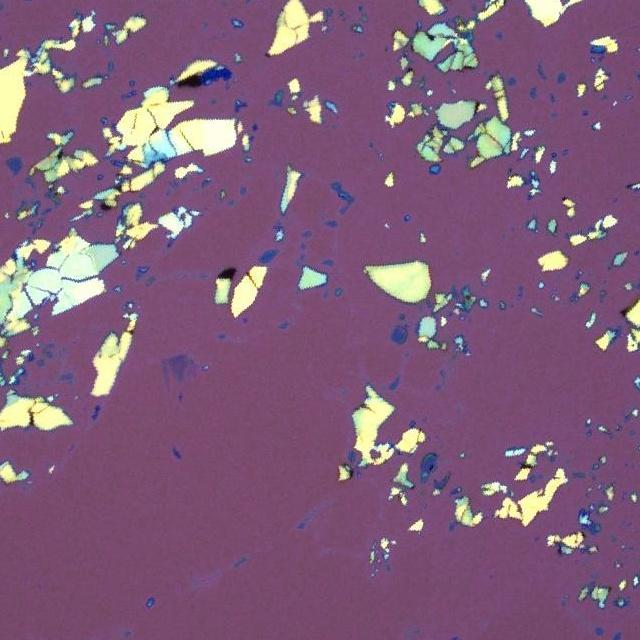monolayer-eWW4: (161, 354, 188, 384)
